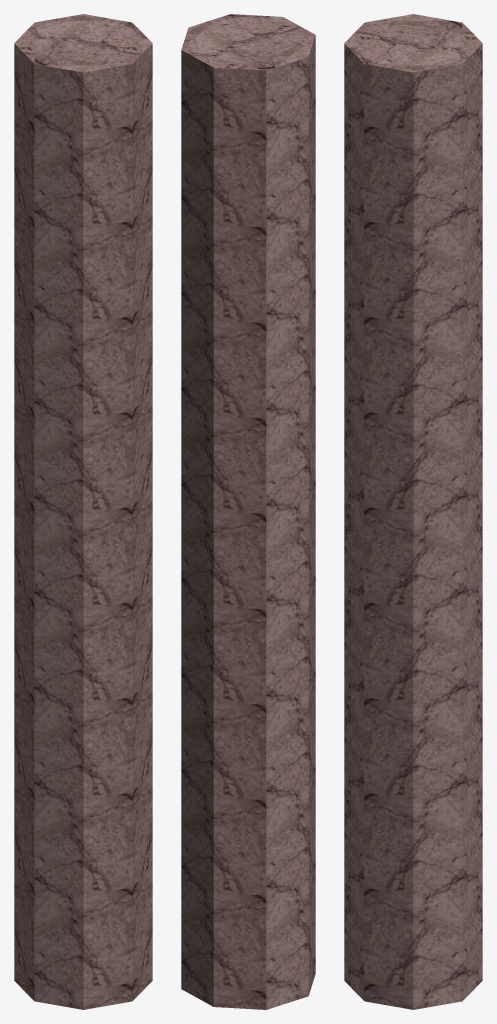
File: Pillar.fbx
The picture shows the model from 3 angles, left to right: view 1: azimuth 90°, elevation 25°; view 2: azimuth 150°, elevation 25°; view 3: azimuth 270°, elevation 25°; orthographic projection.
Visible parts, largest first — view 1: Pillar, Floor; view 2: Pillar, Floor; view 3: Pillar, Floor.
Boxes of the visible parts, left/top/right/bottom form: Pillar: left=14, top=44, right=152, bottom=1009; Floor: left=14, top=14, right=152, bottom=72; Pillar: left=181, top=35, right=315, bottom=1009; Floor: left=181, top=14, right=315, bottom=70; Pillar: left=344, top=44, right=482, bottom=1009; Floor: left=344, top=14, right=482, bottom=72.
Size of the model in its own units: 400 by 2985 by 400.
